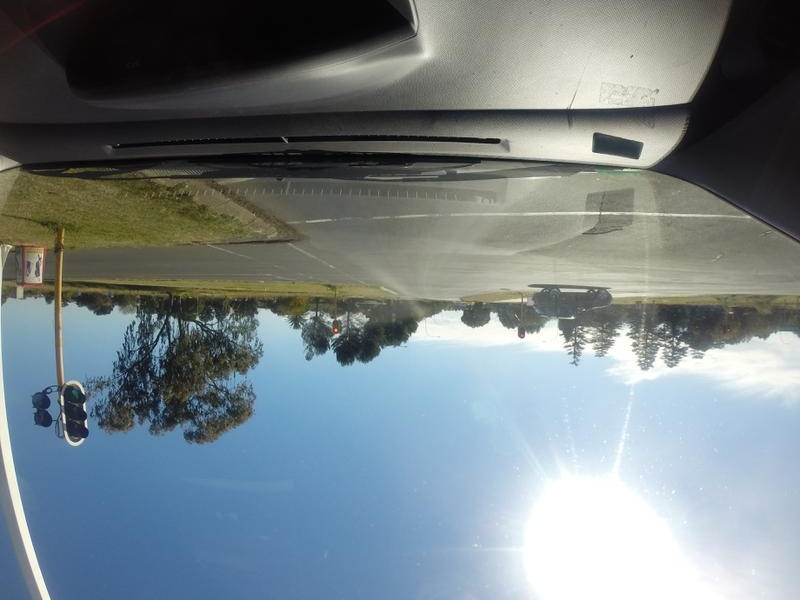pothole: (579, 208, 648, 246)
